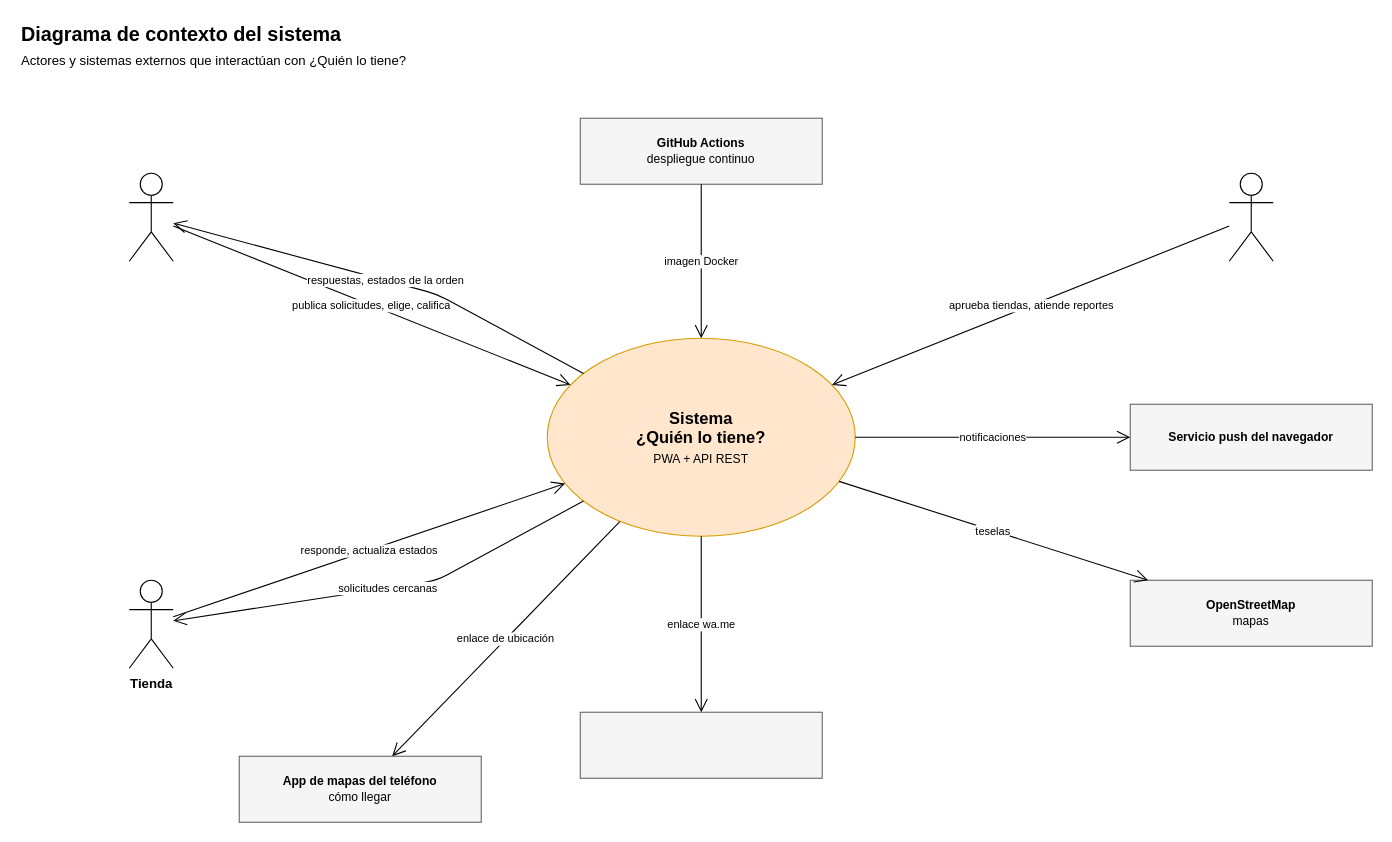
The diagram is 1392 pixels wide and 842 high, and some of its shapes have lost their labels. The centre of each missing label's shape, as x and y in pixels:
Administrador: point (1250, 216)
Cliente: point (150, 216)
WhatsApp contacto tras la elección: point (700, 744)
